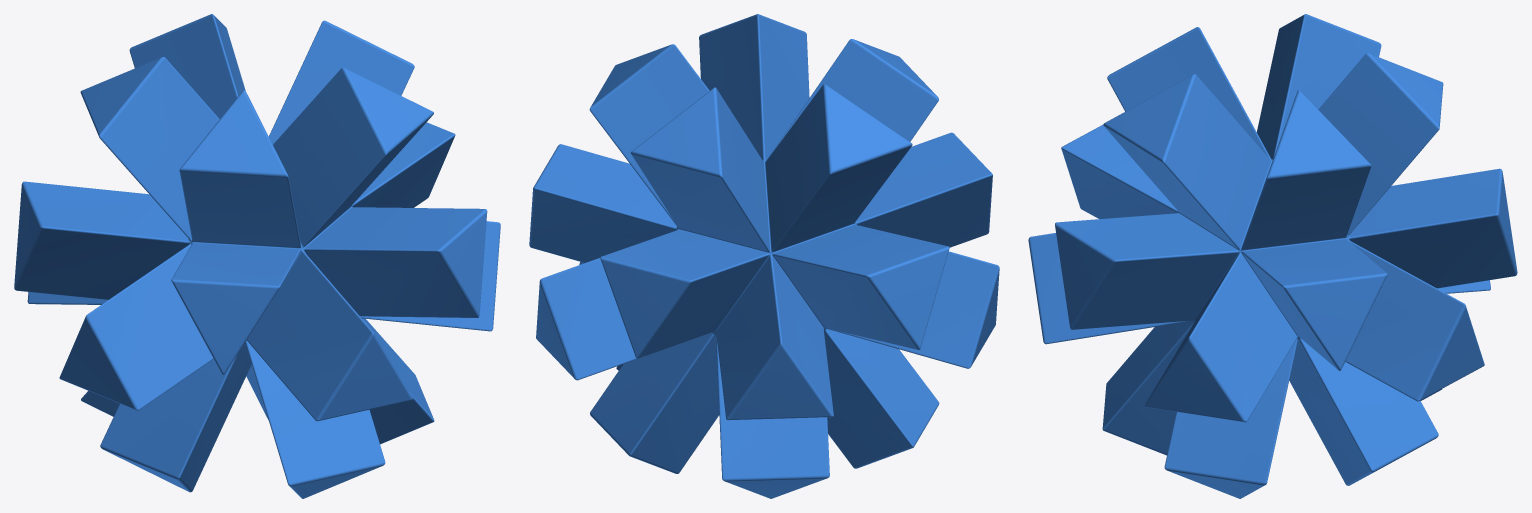
File: Triangle ball.gltf
The picture shows the model from 3 angles, left to right: view 1: azimuth 30°, elevation 25°; view 2: azimuth 150°, elevation 25°; view 3: azimuth 270°, elevation 25°; orthographic projection.
Parts seen in each view (by area): view 1: Icosphere.001; view 2: Icosphere.001; view 3: Icosphere.001.
Boxes of the visible parts, bbox=[...] form: Icosphere.001: bbox=[14, 14, 500, 498]; Icosphere.001: bbox=[529, 14, 999, 498]; Icosphere.001: bbox=[1028, 14, 1517, 498].
Bounding box in the file's own units: 3.34 × 3.21 × 3.47.
